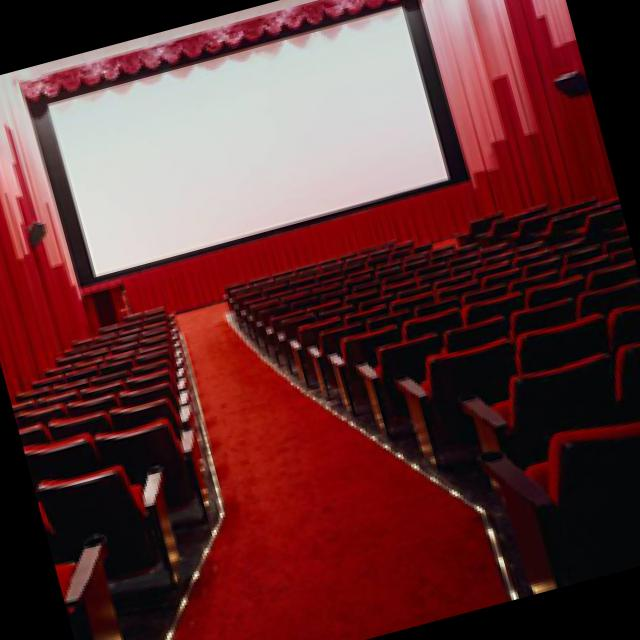floor -X: (170, 215, 640, 640)
screen occluded: (27, 0, 470, 283)
seats crop: (227, 232, 640, 595), (13, 301, 224, 640), (462, 192, 625, 247)
wall clock: (22, 0, 503, 330), (444, 0, 623, 221), (0, 68, 90, 407)
